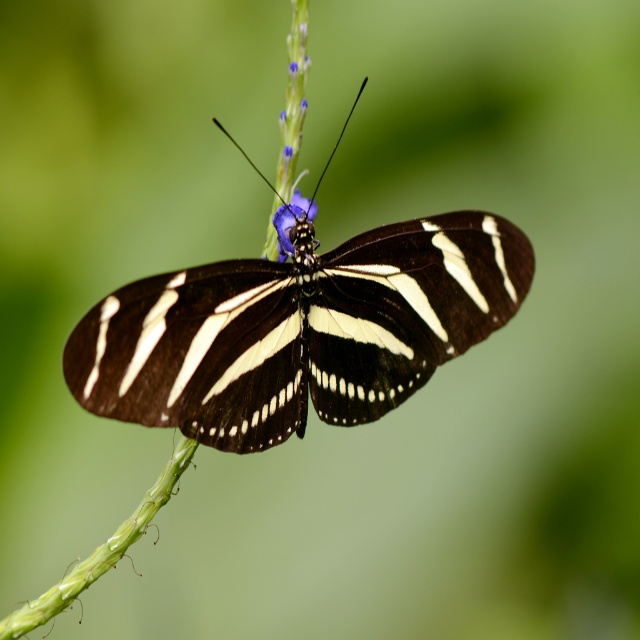Butterfly: (61, 44, 537, 487)
